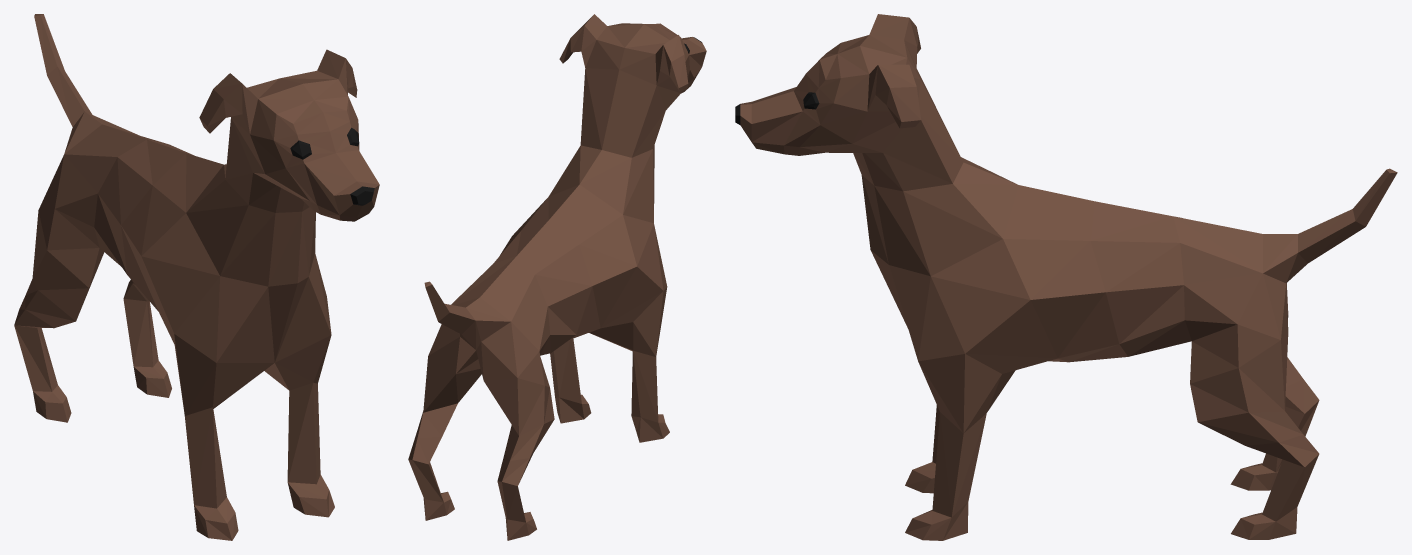
File: dog.obj
3 views of the same model, side by side, from view 1: azimuth 30°, elevation 25°; view 2: azimuth 150°, elevation 25°; view 3: azimuth 270°, elevation 25° (orthographic). The views are drawn at different scales.
Visible parts, largest first — view 1: dog; view 2: dog; view 3: dog.
Part boxes in pixels (x1,y1,x2,y2): dog: [14, 14, 379, 540]; dog: [408, 14, 706, 540]; dog: [735, 14, 1397, 540].
Size of the model in its own units: 173 by 506 by 646.
Materials: 1 (1 with a texture image).
